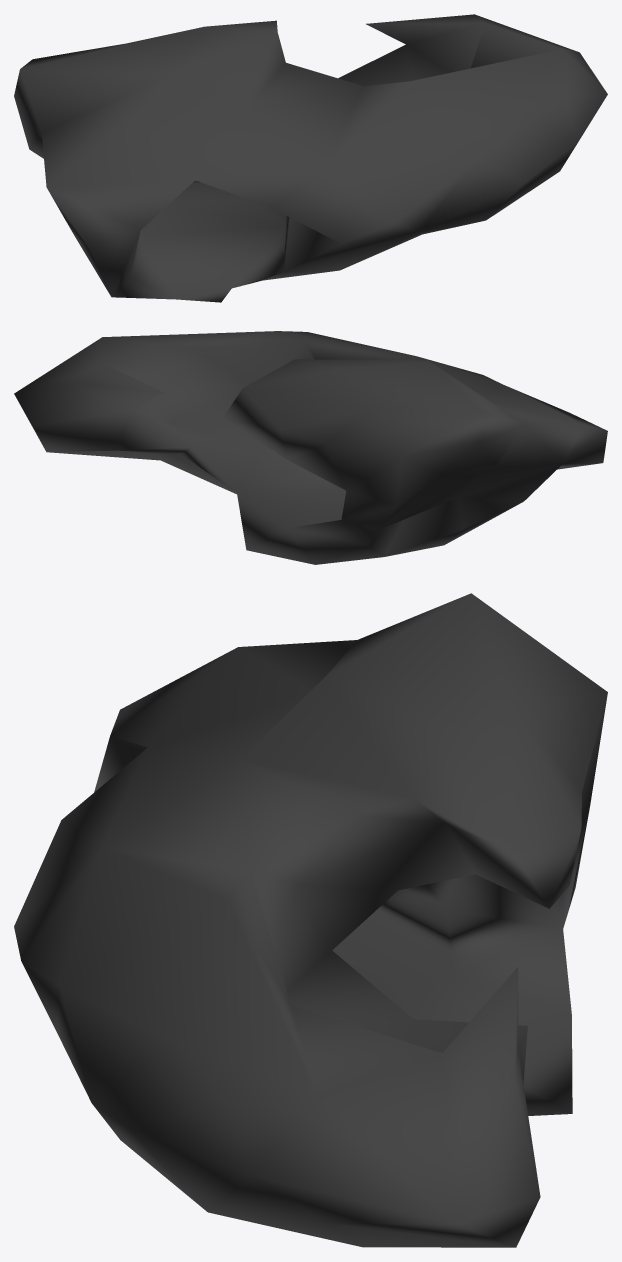
The model's file is reclining-1.glb.
3 views of the same model, one above another, from view 1: azimuth 30°, elevation 25°; view 2: azimuth 150°, elevation 25°; view 3: azimuth 270°, elevation 25° (orthographic). The views are drawn at different scales.
Visible parts, largest first — view 1: geometry_0; view 2: geometry_0; view 3: geometry_0.
Boxes of the visible parts, x1,y1,x2,y2 form: geometry_0: [14, 14, 607, 302]; geometry_0: [14, 331, 607, 564]; geometry_0: [14, 593, 607, 1247].
Size of the model in its own units: 2.99 by 1 by 1.57.
Materials: 1 (1 with a texture image).
